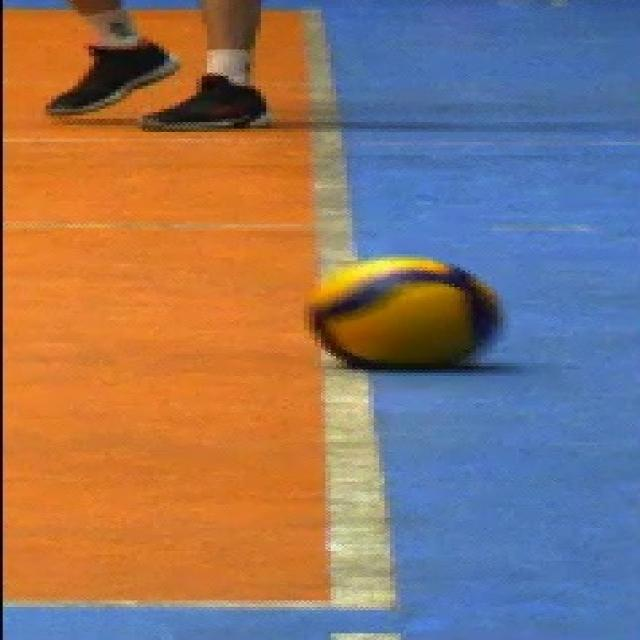Volleyball: (310, 260, 494, 367)
